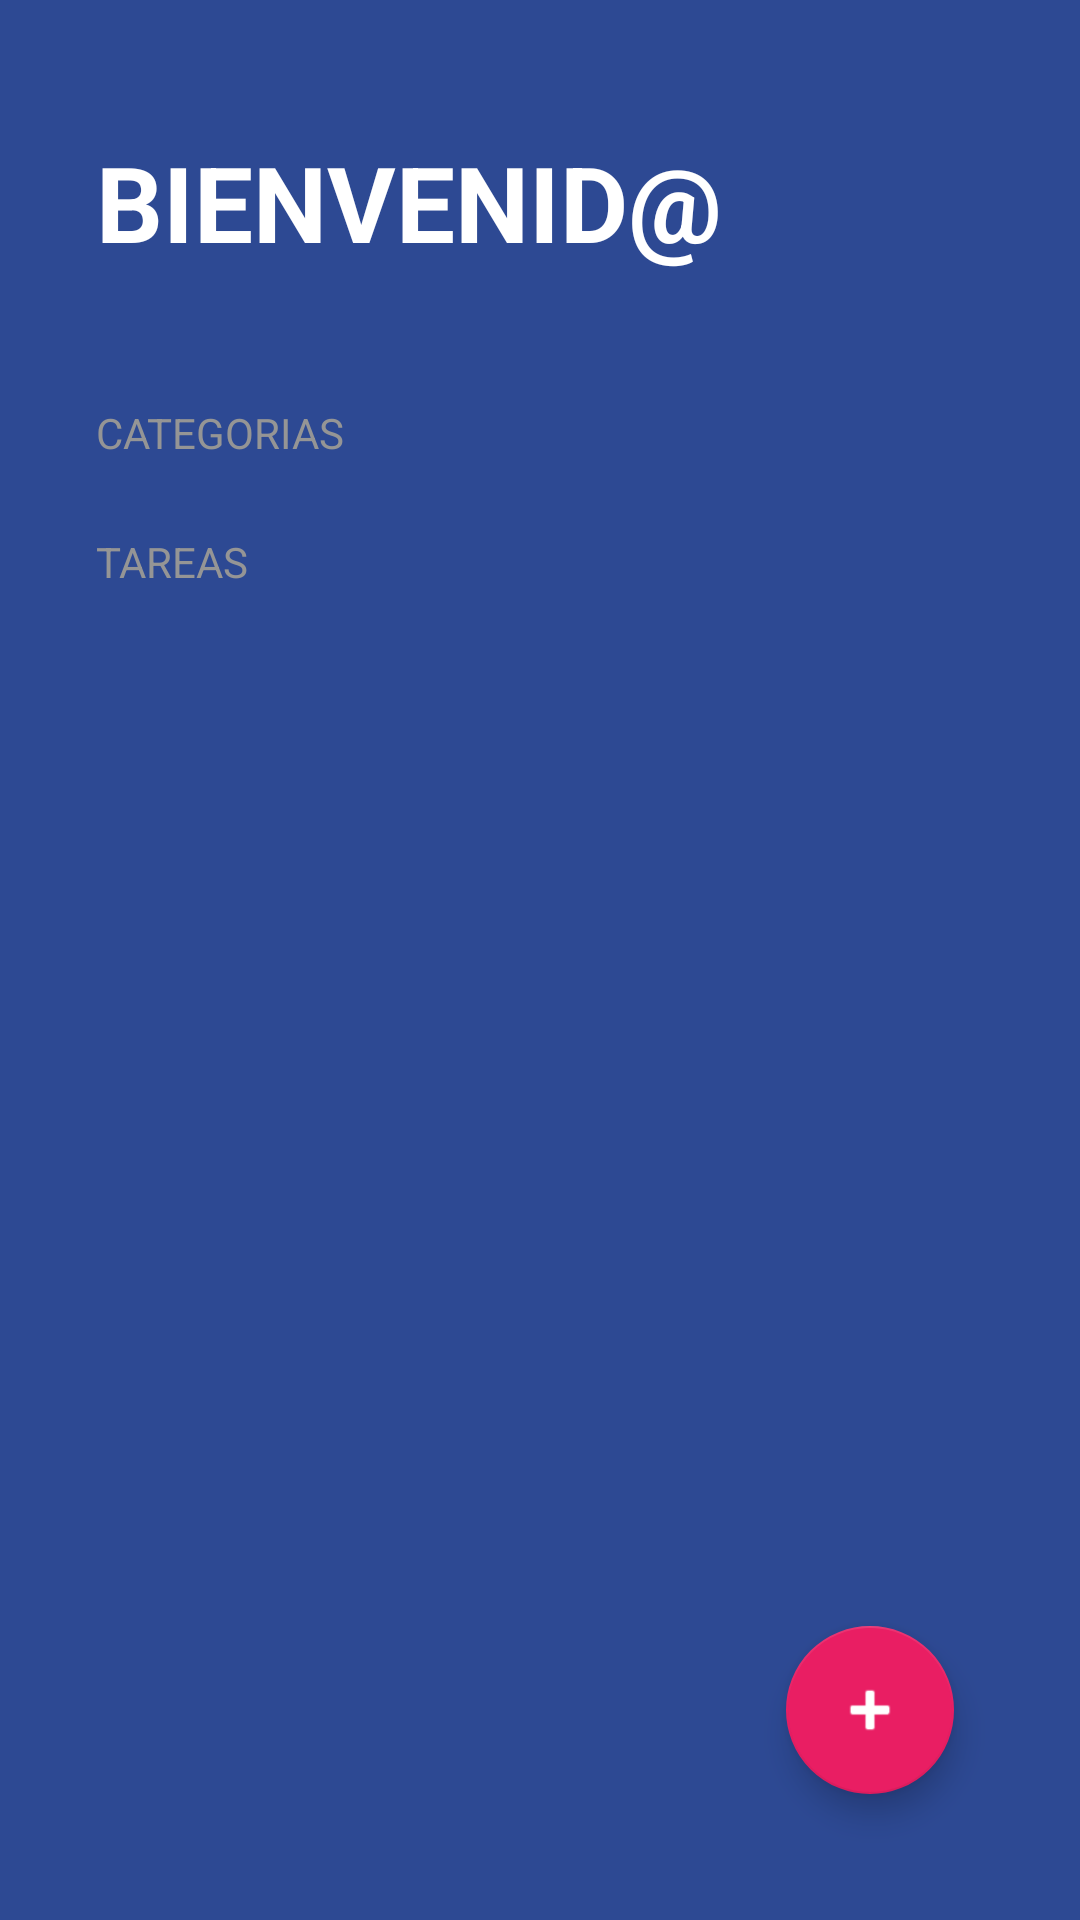

Where icons sit on this 1080px x 1920px app screen, as (x1, y1, x2, y2):
Crear Tarea: (786, 1626, 954, 1794)
